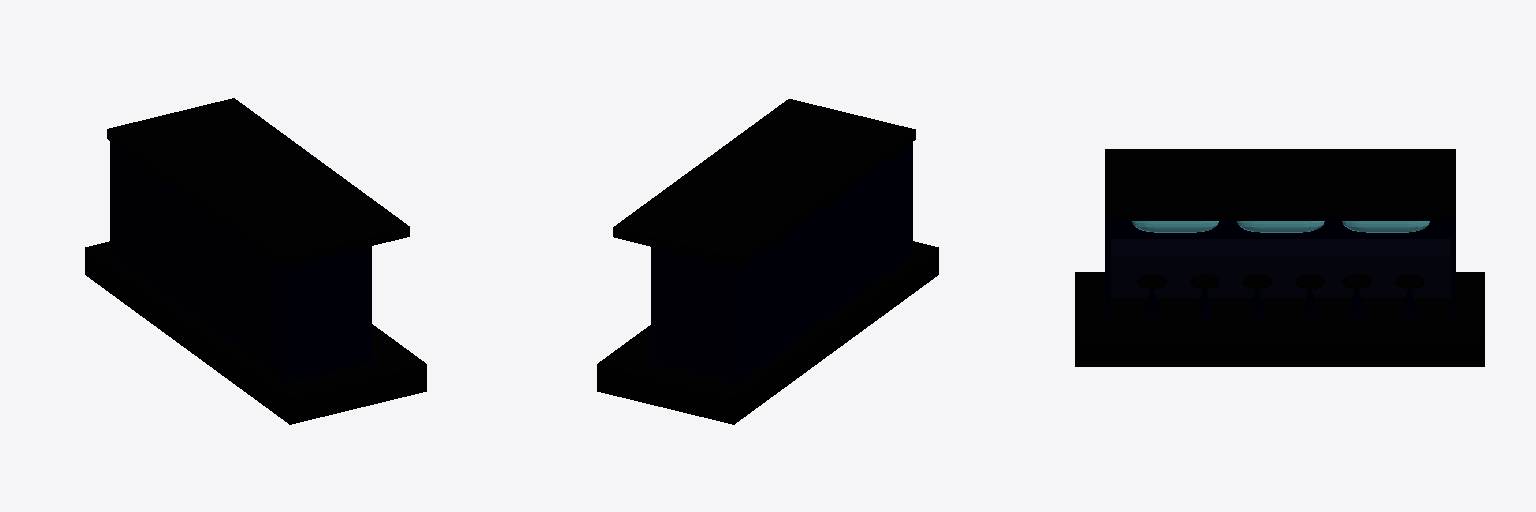
Rendered from pitwallredbull.obj.
The picture shows the model from 3 angles: view 1: azimuth 30°, elevation 25°; view 2: azimuth 150°, elevation 25°; view 3: azimuth 270°, elevation 25°; orthographic projection.
Parts seen in each view (by area): view 1: Kocka.004_Kocka.022, Kocka_Kocka.016, Kocka.006_Kocka, Kocka.001_Kocka.017; view 2: Kocka.004_Kocka.022, Kocka_Kocka.016, Kocka.006_Kocka, Kocka.003_Kocka.021; view 3: Kocka.006_Kocka, Kocka.004_Kocka.022, Kocka.005_Kocka.023, Kocka_Kocka.016, Mgömb_Mgömb.001, Kocka.001_Kocka.017.
Boxes of the visible parts, <box> form: Kocka.004_Kocka.022: <box>107,98,409,267</box>; Kocka_Kocka.016: <box>110,141,290,383</box>; Kocka.006_Kocka: <box>85,241,426,424</box>; Kocka.001_Kocka.017: <box>291,246,371,381</box>; Kocka.004_Kocka.022: <box>613,99,915,267</box>; Kocka_Kocka.016: <box>732,142,912,383</box>; Kocka.006_Kocka: <box>597,241,938,424</box>; Kocka.003_Kocka.021: <box>651,247,731,382</box>; Kocka.006_Kocka: <box>1075,272,1484,366</box>; Kocka.004_Kocka.022: <box>1105,149,1455,220</box>; Kocka.005_Kocka.023: <box>1111,239,1450,297</box>; Kocka_Kocka.016: <box>1111,221,1450,238</box>; Mgömb_Mgömb.001: <box>1132,221,1429,232</box>; Kocka.001_Kocka.017: <box>1105,221,1110,318</box>.
Bounding box in the file's own units: 27 × 29.13 × 70.